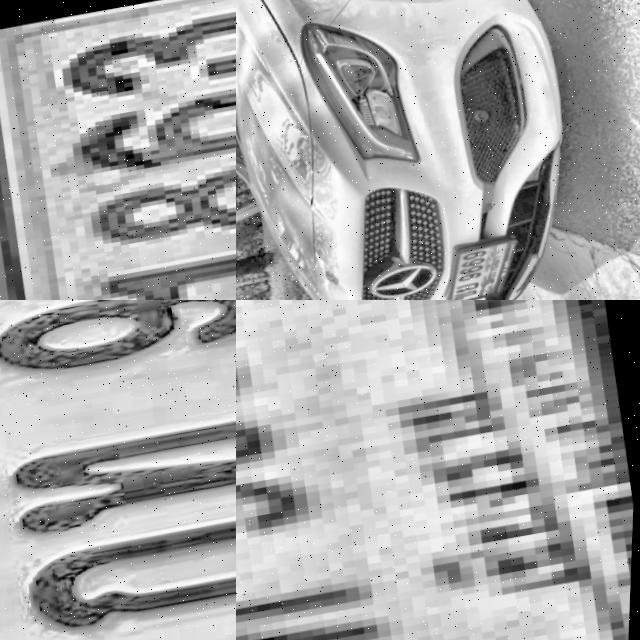license-plate: (236, 300, 640, 640), (0, 300, 236, 640), (0, 0, 236, 300), (435, 236, 527, 300)
